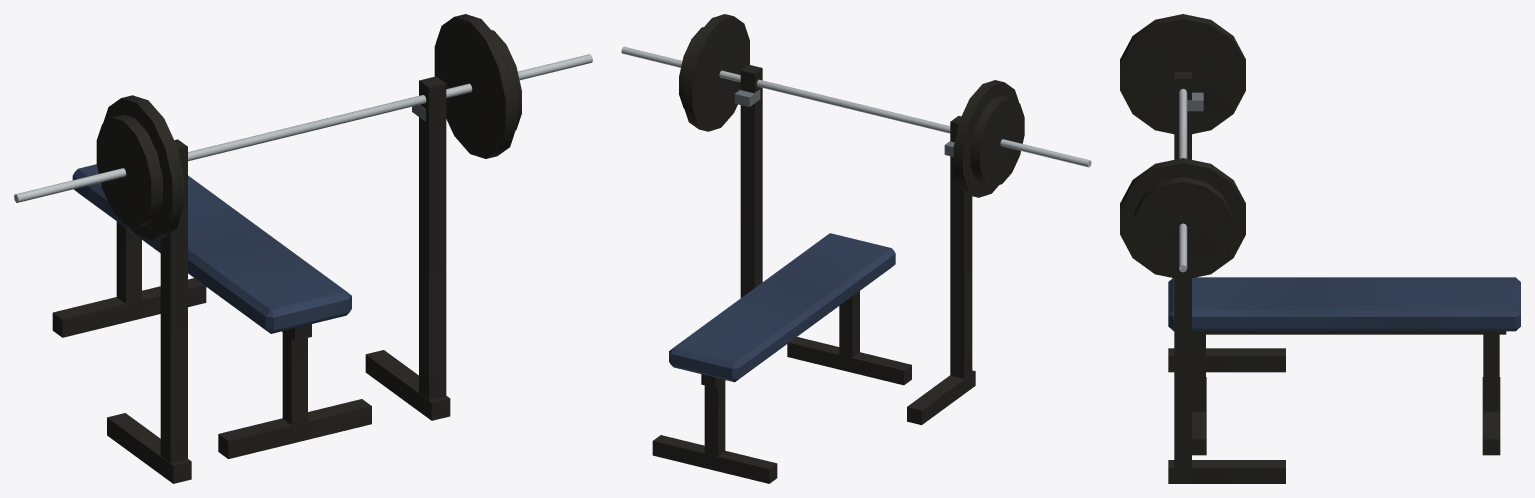
Rendered from weight_bench.fbx.
3 views of the same model, side by side, from view 1: azimuth 30°, elevation 25°; view 2: azimuth 150°, elevation 25°; view 3: azimuth 270°, elevation 25° (orthographic). The views are drawn at different scales.
Parts seen in each view (by area): view 1: weight_bench; view 2: weight_bench; view 3: weight_bench.
Part boxes in pixels (x1,y1,x2,y2): weight_bench: [14, 14, 592, 483]; weight_bench: [621, 14, 1091, 483]; weight_bench: [1120, 14, 1520, 483].
Bounding box in the file's own units: 2 × 1.27 × 1.36.
1 material, 1 textured.
